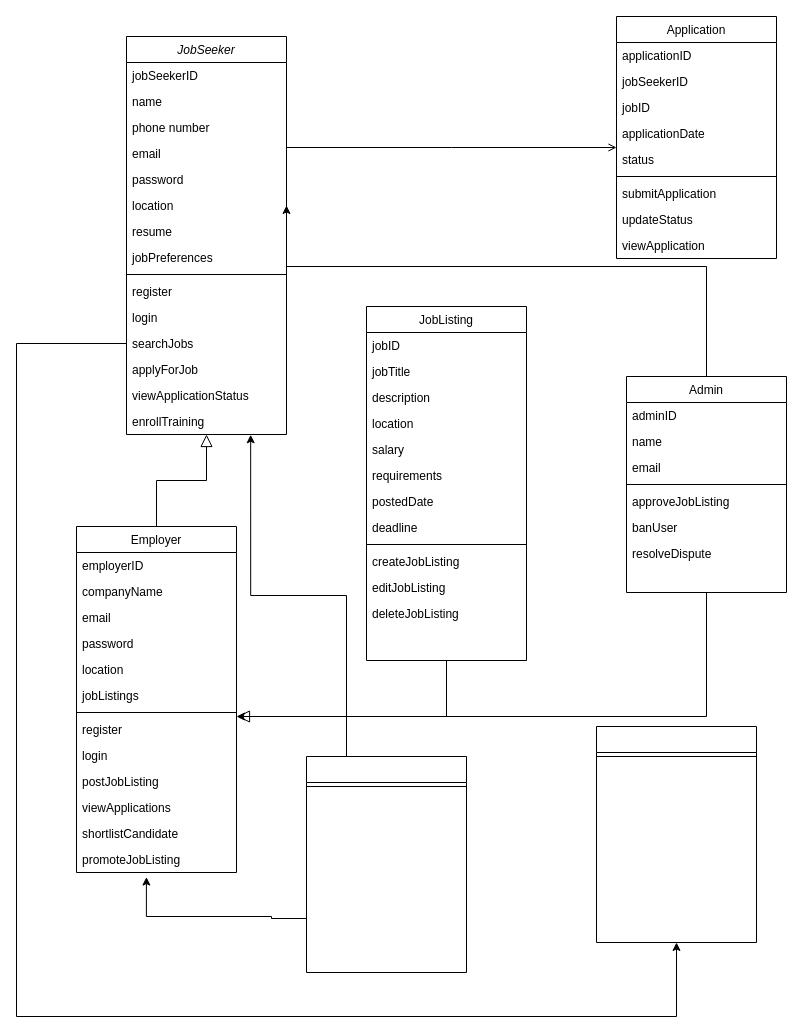
The diagram is 803 pixels wide and 1033 high, and some of its shapes have lost their labels. The shapes that lost their labels are listed below. From the top down, each one's box as (x1, y1, x2, y2) in pixels, then its label:
(596, 726, 756, 942): TrainingProvider
(306, 756, 466, 972): PaymentGateway
